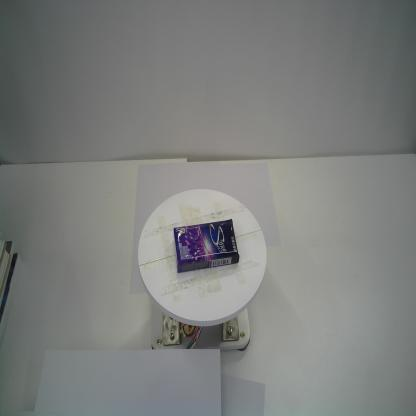Gum: (172, 218, 240, 274)
